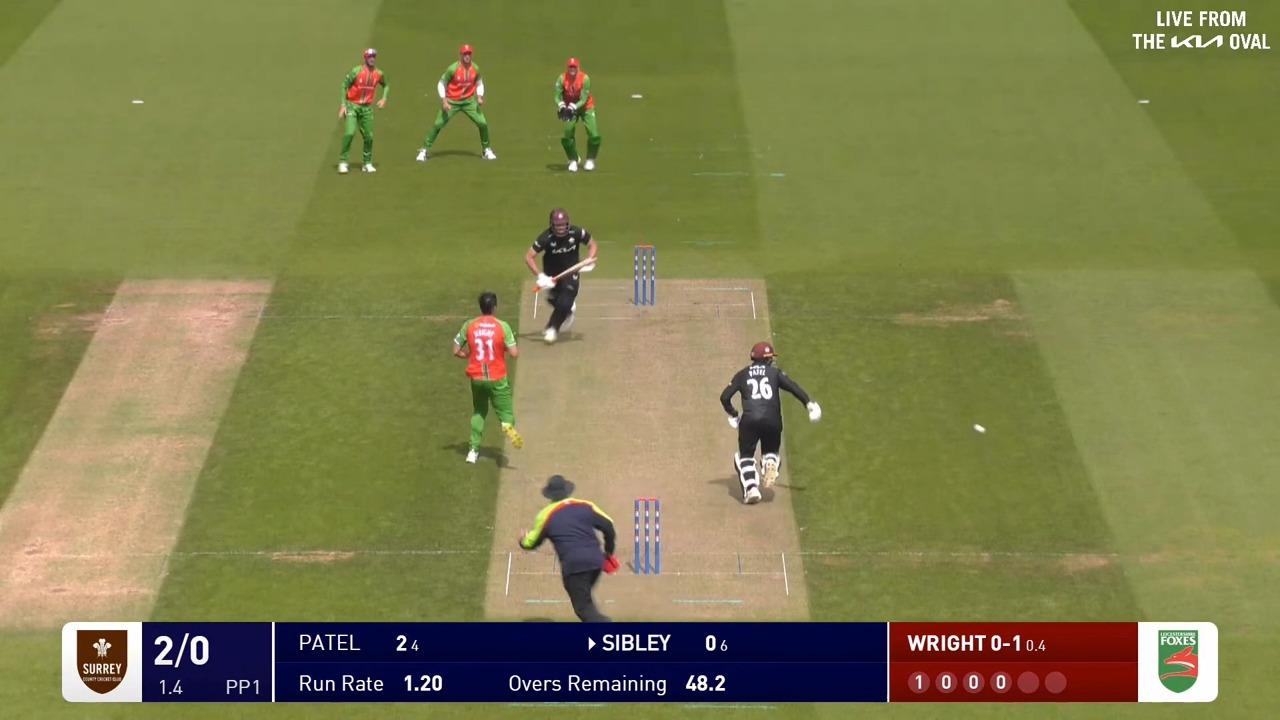sports ball: (974, 424, 986, 433)
